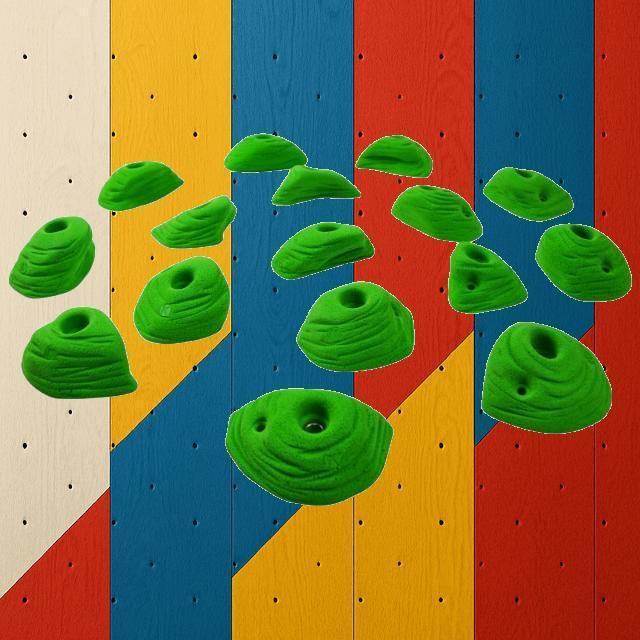Jug: (225, 387, 393, 505), (481, 321, 612, 433), (296, 280, 414, 372), (21, 306, 138, 398), (134, 256, 230, 344), (536, 222, 632, 302), (9, 214, 96, 298), (270, 222, 374, 280), (447, 241, 527, 313), (392, 184, 482, 242), (482, 166, 574, 222), (150, 195, 236, 249), (97, 159, 183, 211), (271, 164, 361, 206), (223, 132, 307, 172), (356, 134, 432, 178)
